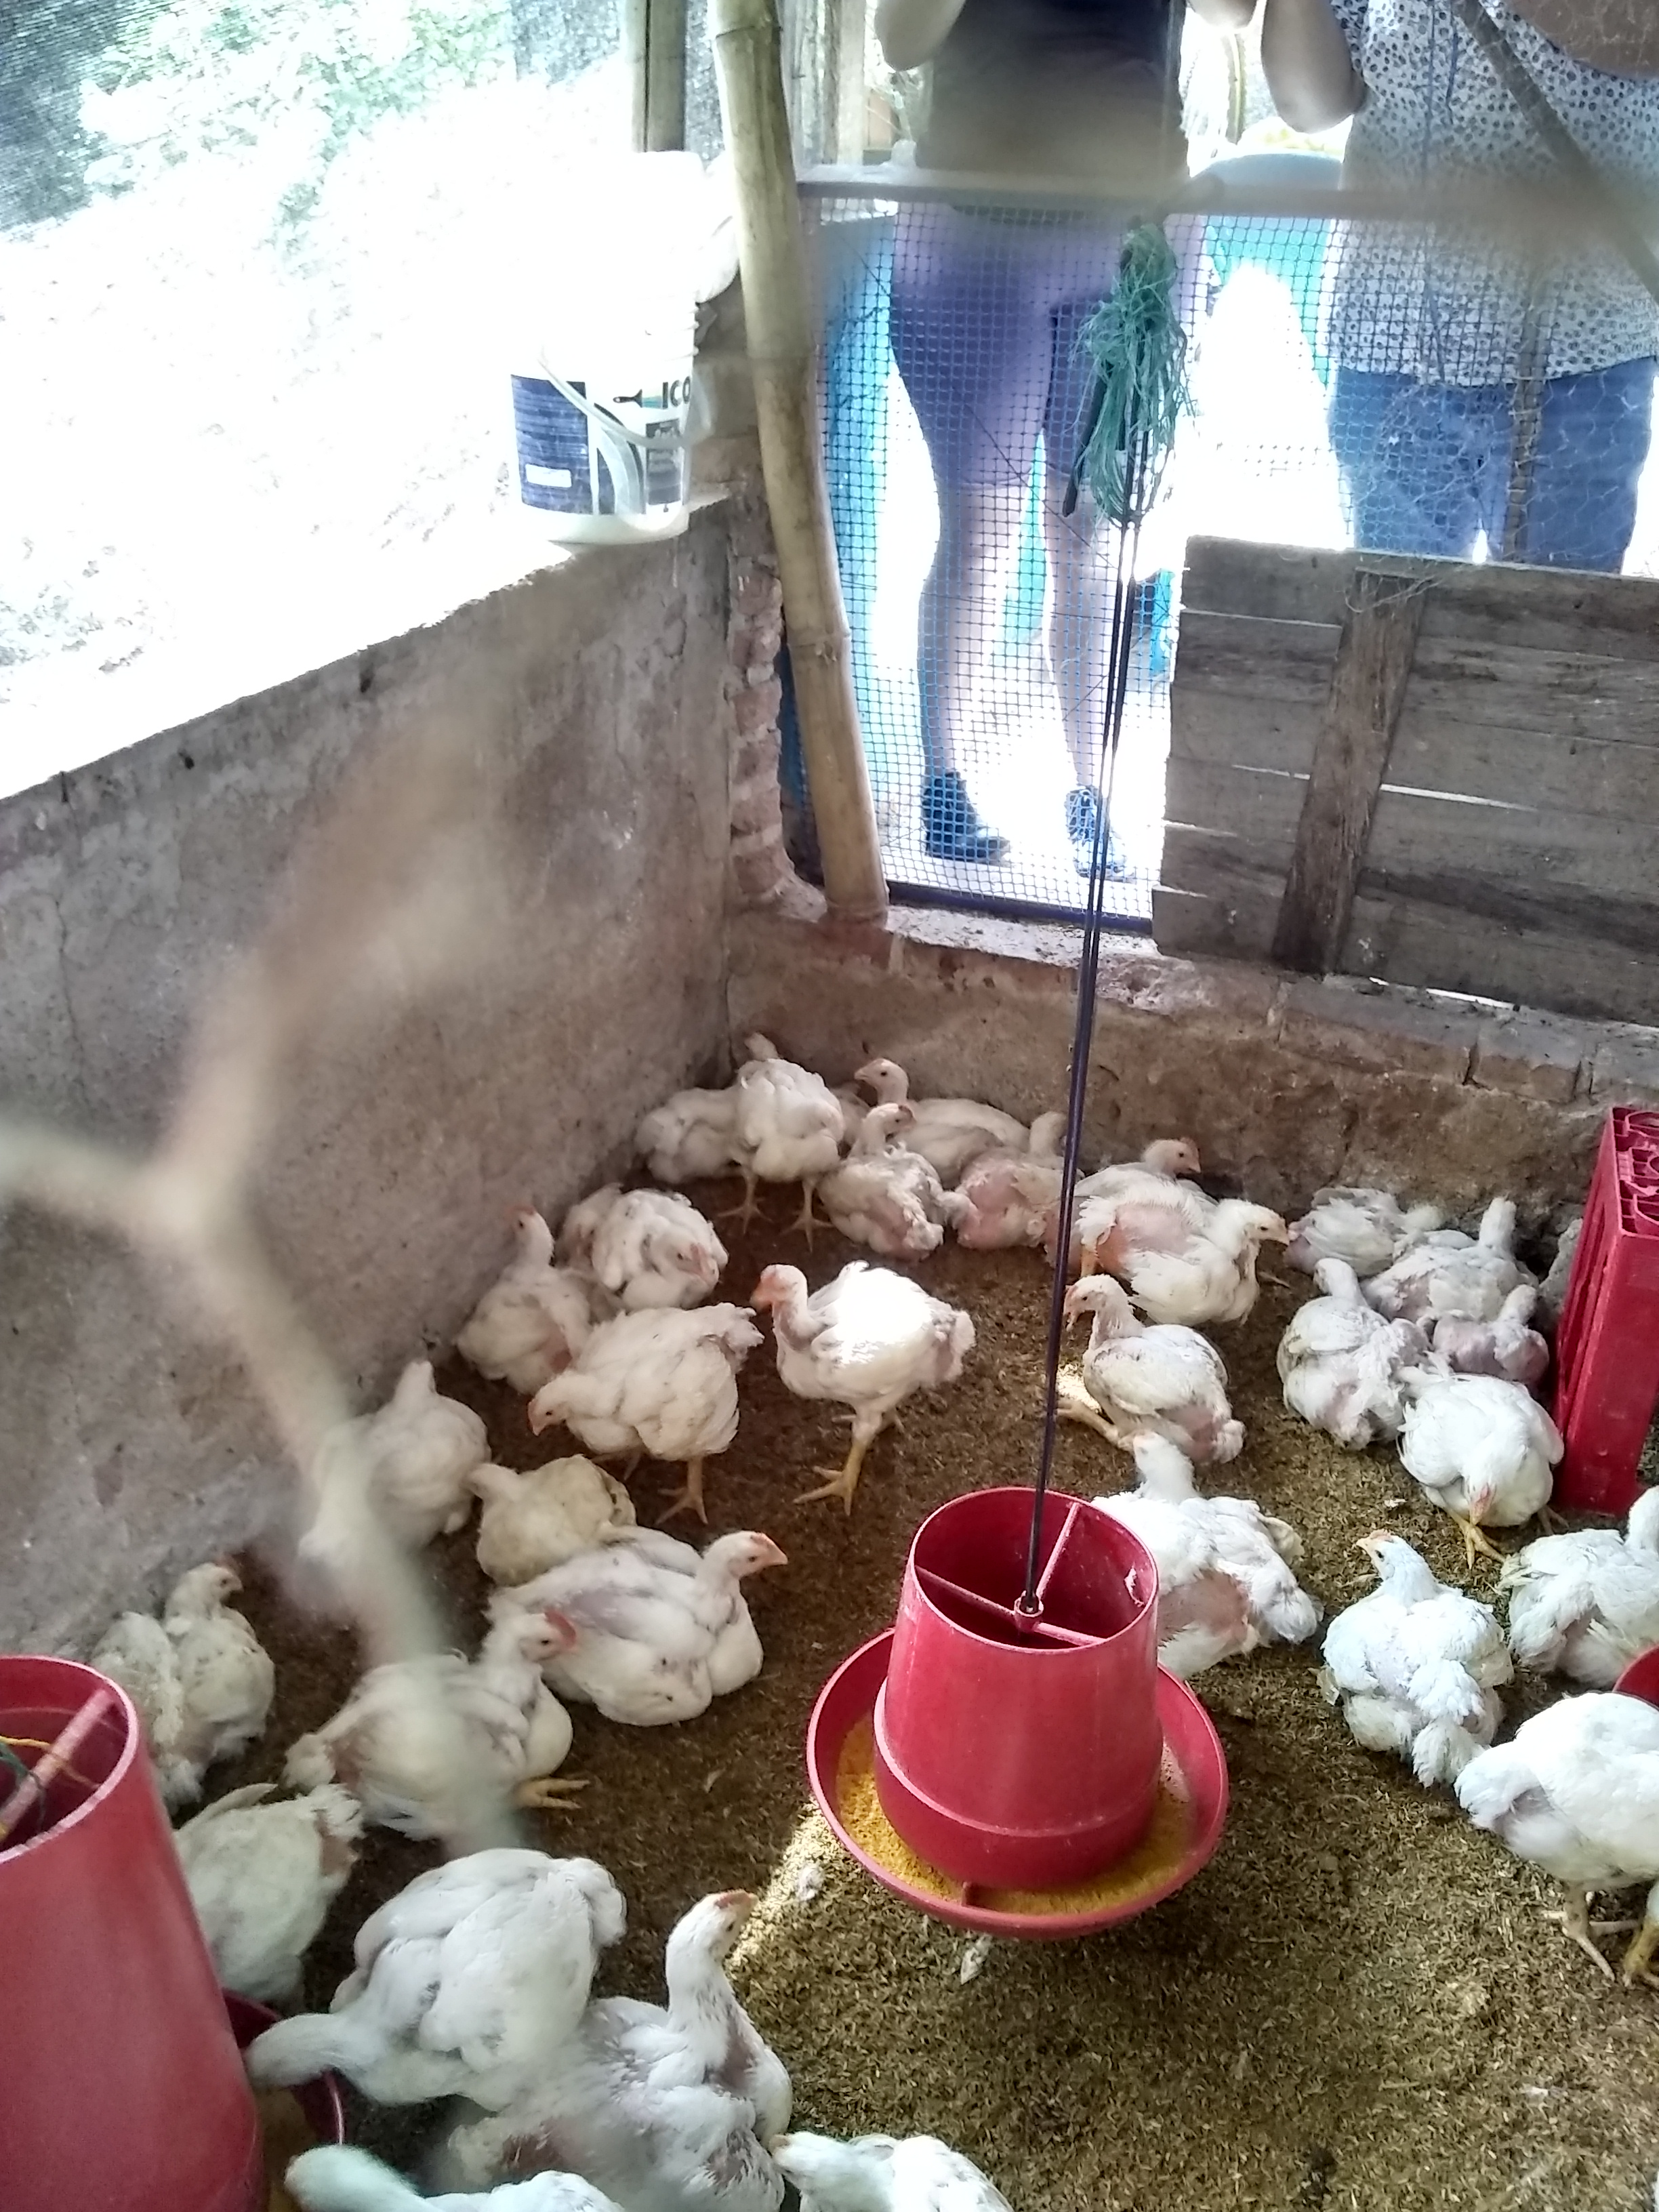Pollos: (260, 1841, 627, 2106), (1114, 1435, 1304, 1660), (389, 1597, 572, 1825), (301, 1357, 467, 1561), (1345, 1527, 1488, 1749), (748, 1261, 972, 1392), (1066, 1273, 1241, 1440), (647, 1878, 791, 2057), (1398, 1366, 1556, 1524), (622, 1531, 788, 1683), (523, 1315, 725, 1439), (1290, 1254, 1412, 1425), (148, 1555, 274, 1721), (1131, 1197, 1297, 1310), (831, 1104, 955, 1249), (728, 1033, 840, 1174), (484, 1204, 598, 1341), (457, 1461, 624, 1547), (983, 1109, 1091, 1228), (591, 1195, 725, 1287), (1427, 1190, 1525, 1292), (636, 1087, 728, 1174), (1466, 1287, 1558, 1357), (1117, 1136, 1208, 1183), (854, 1050, 920, 1094)
